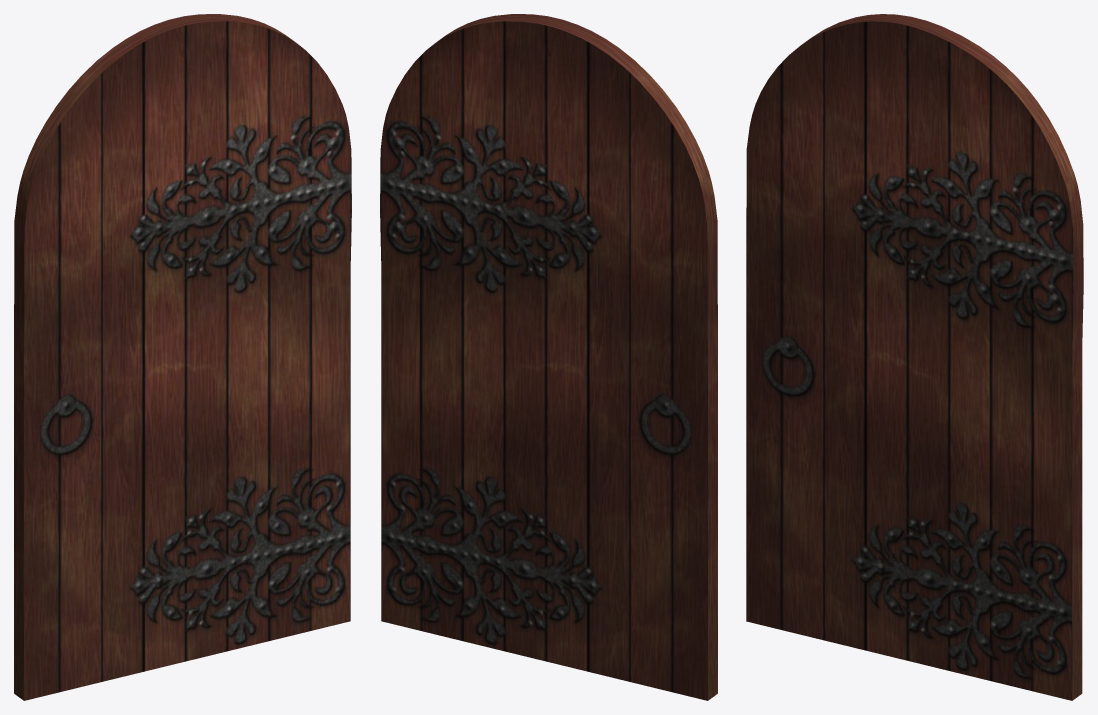
The model's file is Privy Council Door.fbx.
3 views of the same model, side by side, from view 1: azimuth 30°, elevation 25°; view 2: azimuth 150°, elevation 25°; view 3: azimuth 330°, elevation 25° (orthographic).
Visible parts, largest first — view 1: Extrude_NURBS_1; view 2: Extrude_NURBS_1; view 3: Extrude_NURBS_1.
Part boxes in pixels (x1,y1,x2,y2): Extrude_NURBS_1: (14, 14, 351, 700); Extrude_NURBS_1: (380, 14, 717, 700); Extrude_NURBS_1: (746, 14, 1083, 700).
Size of the model in its own units: 188 by 348 by 10.
1 material, 1 textured.
